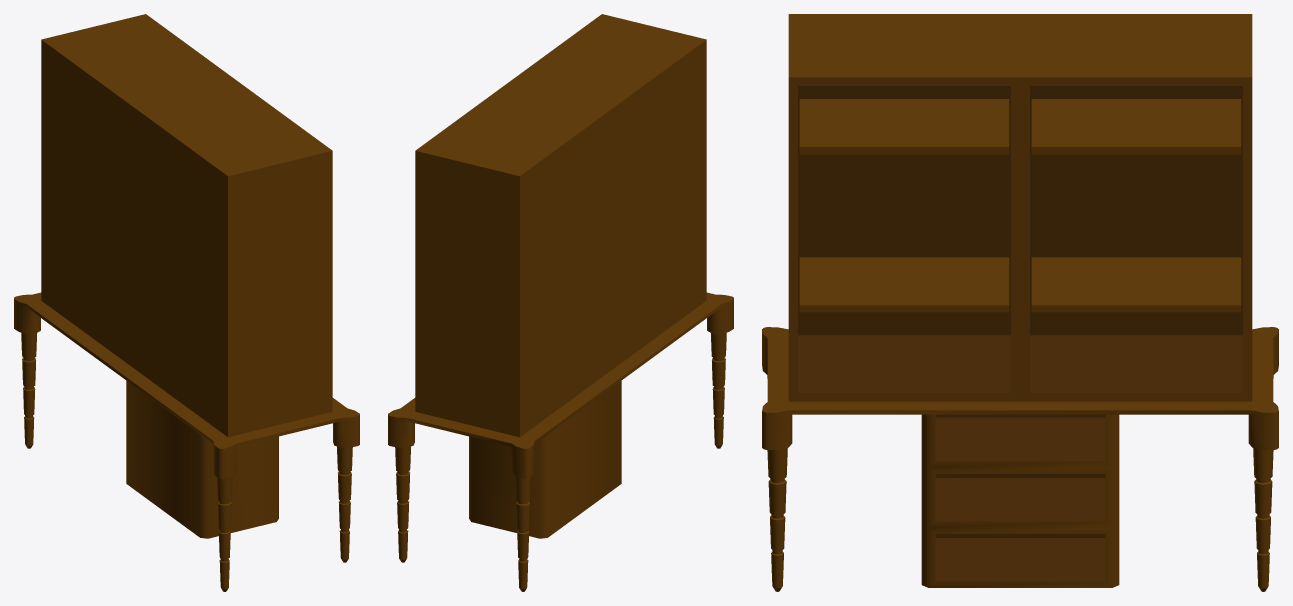
Rendered from Hea_Player_Room_Shelf_1.fbx.
3 renders of one model, left to right at view 1: azimuth 30°, elevation 25°; view 2: azimuth 150°, elevation 25°; view 3: azimuth 270°, elevation 25°, orthographic. The views are drawn at different scales.
Visible parts, largest first — view 1: Bookshelf_2; view 2: Bookshelf_2; view 3: Bookshelf_2.
Boxes of the visible parts, <box> form: Bookshelf_2: <box>14,14,359,591</box>; Bookshelf_2: <box>388,14,733,591</box>; Bookshelf_2: <box>762,14,1278,591</box>.
Bounding box in the file's own units: 70.19 × 194 × 179.
